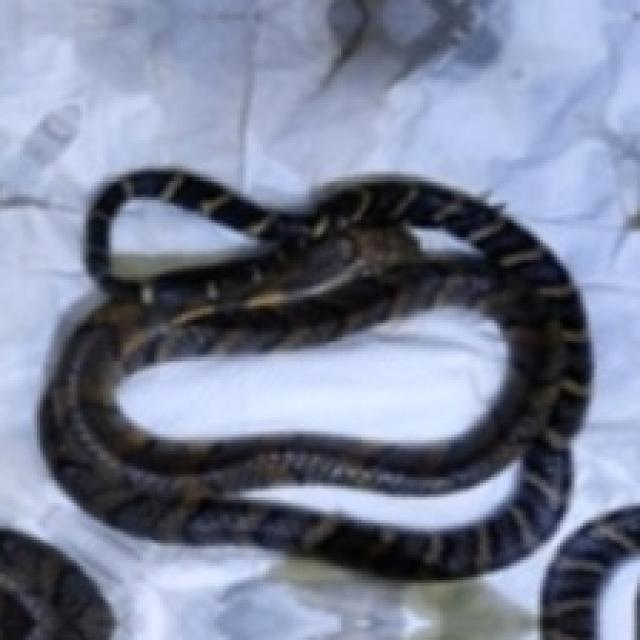king cobra: (40, 169, 589, 577), (540, 506, 637, 637)
